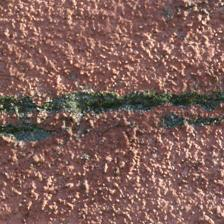Crack: (3, 43, 218, 100)
